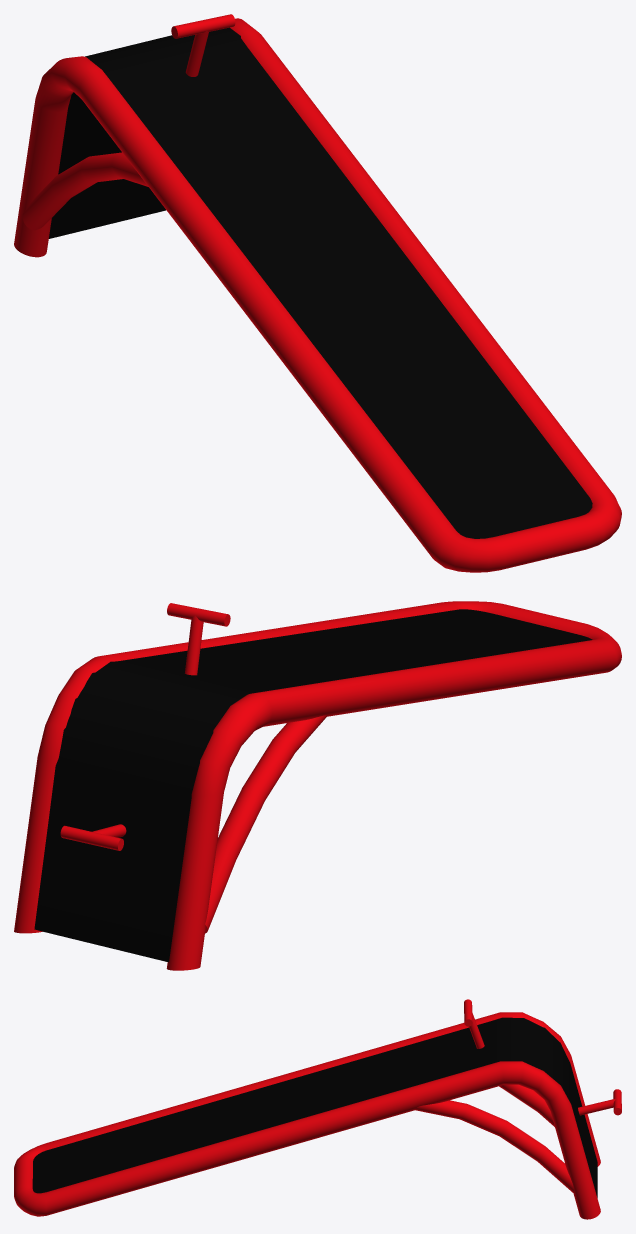
File: MAQUINA ABDOMINAL.fbx
3 renders of one model, top to bottom at view 1: azimuth 30°, elevation 25°; view 2: azimuth 150°, elevation 25°; view 3: azimuth 270°, elevation 25°, orthographic. The views are drawn at different scales.
Parts seen in each view (by area): view 1: MAQUINA ABDOMINAL; view 2: MAQUINA ABDOMINAL; view 3: MAQUINA ABDOMINAL.
Part boxes in pixels (x1=…): MAQUINA ABDOMINAL: x1=14, y1=14, x2=621, y2=572; MAQUINA ABDOMINAL: x1=14, y1=601, x2=621, y2=970; MAQUINA ABDOMINAL: x1=14, y1=999, x2=621, y2=1219.
Bounding box in the file's own units: 247 × 355 × 1052.
